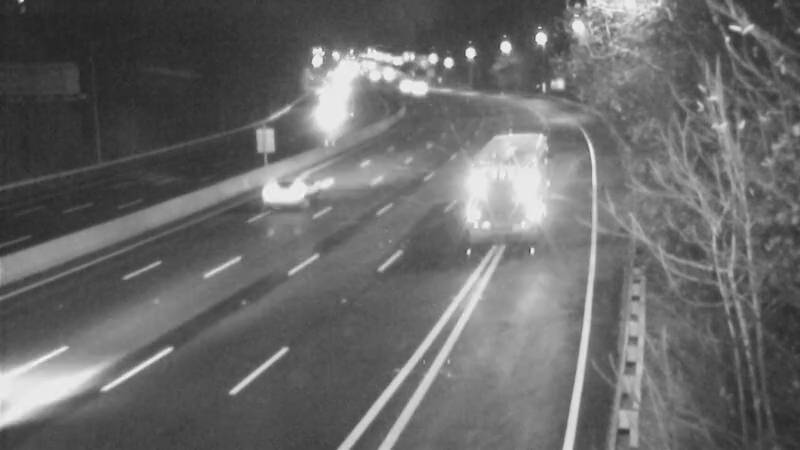vehicle: (449, 153, 529, 233), (252, 155, 332, 235), (363, 50, 413, 100), (350, 51, 400, 101), (377, 61, 427, 111), (393, 66, 443, 116), (299, 82, 349, 132)
